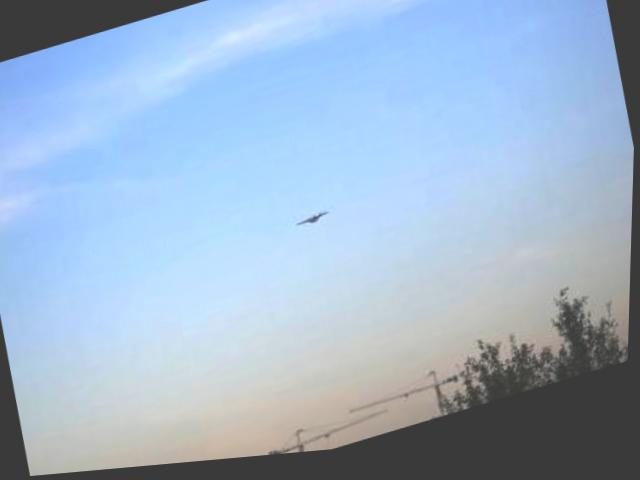uav: (288, 198, 340, 246)
